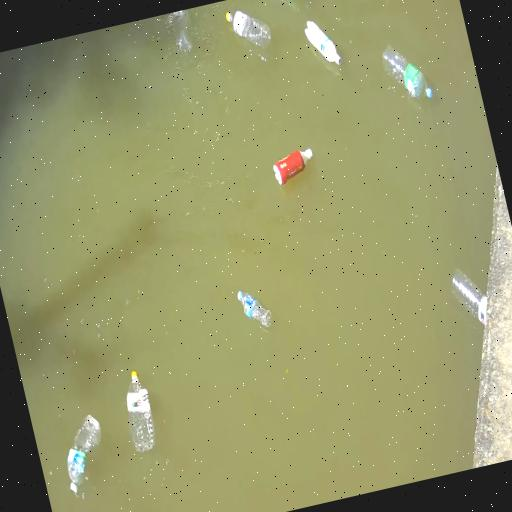plastic: (67, 415, 101, 494), (382, 46, 433, 98), (127, 370, 156, 453), (452, 269, 488, 325), (226, 11, 271, 49), (305, 21, 341, 65), (273, 149, 313, 185), (238, 291, 272, 328), (171, 10, 193, 53)
